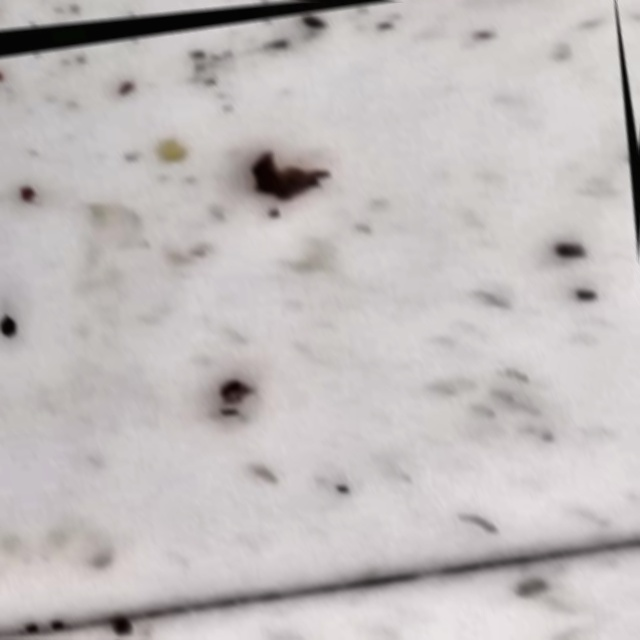varroa: (6, 301, 23, 338)
